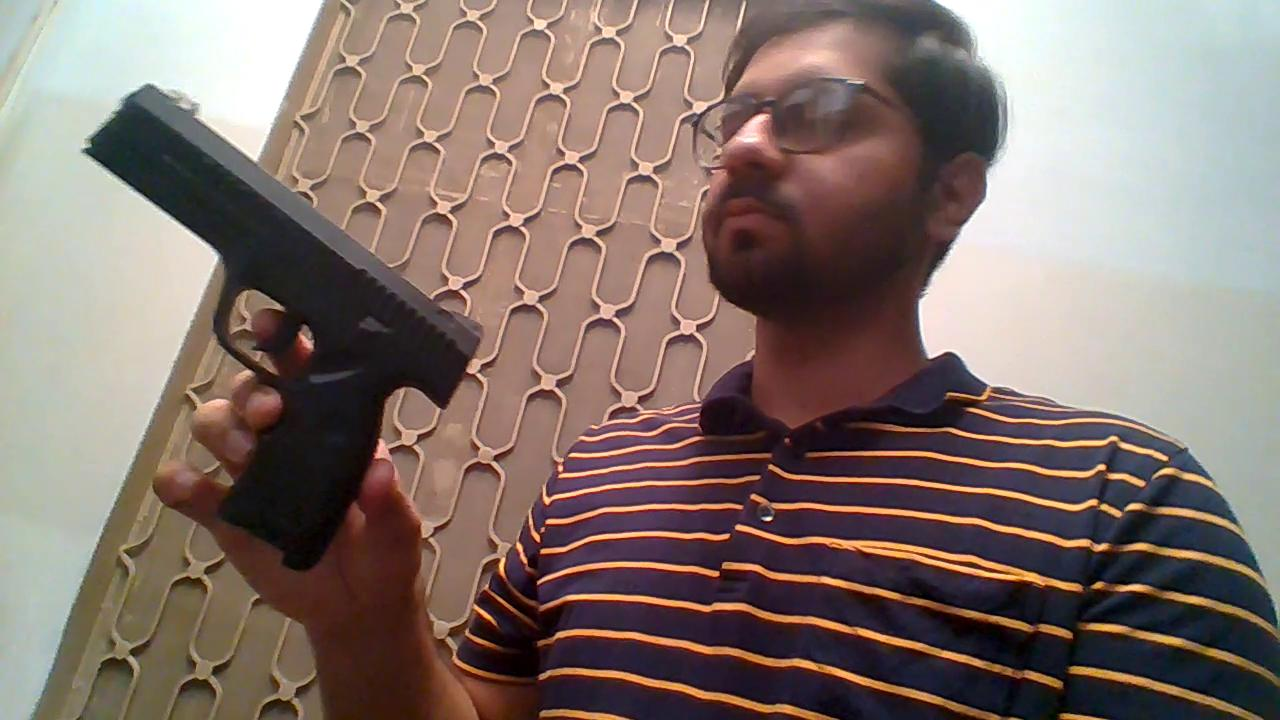criminal: (79, 0, 1280, 720)
weapon: (81, 80, 483, 571)
